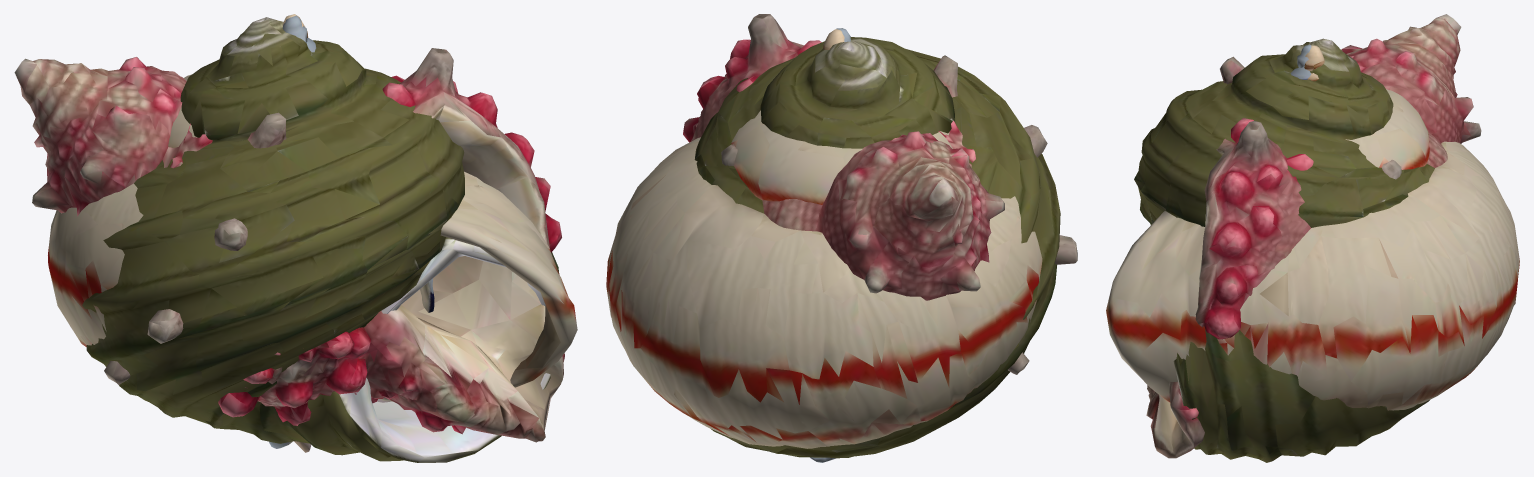
File: shells.glb
3 views of the same model, side by side, from view 1: azimuth 30°, elevation 25°; view 2: azimuth 150°, elevation 25°; view 3: azimuth 270°, elevation 25° (orthographic). The views are drawn at different scales.
Parts seen in each view (by area): view 1: turban, coral, snail, whelk; view 2: snail, turban, coral; view 3: snail, turban, coral, cone.
Part boxes in pixels (bbox=[...]): turban: bbox=[82, 17, 559, 462]; coral: bbox=[14, 48, 564, 442]; snail: bbox=[48, 74, 577, 401]; whelk: bbox=[269, 15, 434, 448]; snail: bbox=[606, 110, 1042, 448]; turban: bbox=[694, 37, 1060, 458]; coral: bbox=[683, 14, 1077, 374]; snail: bbox=[1106, 89, 1519, 410]; turban: bbox=[1134, 38, 1434, 462]; coral: bbox=[1146, 14, 1481, 458]; cone: bbox=[1304, 45, 1324, 81].
Bounding box in the file's own units: 1.91 × 1.9 × 1.91.
5 materials, 5 textured.
